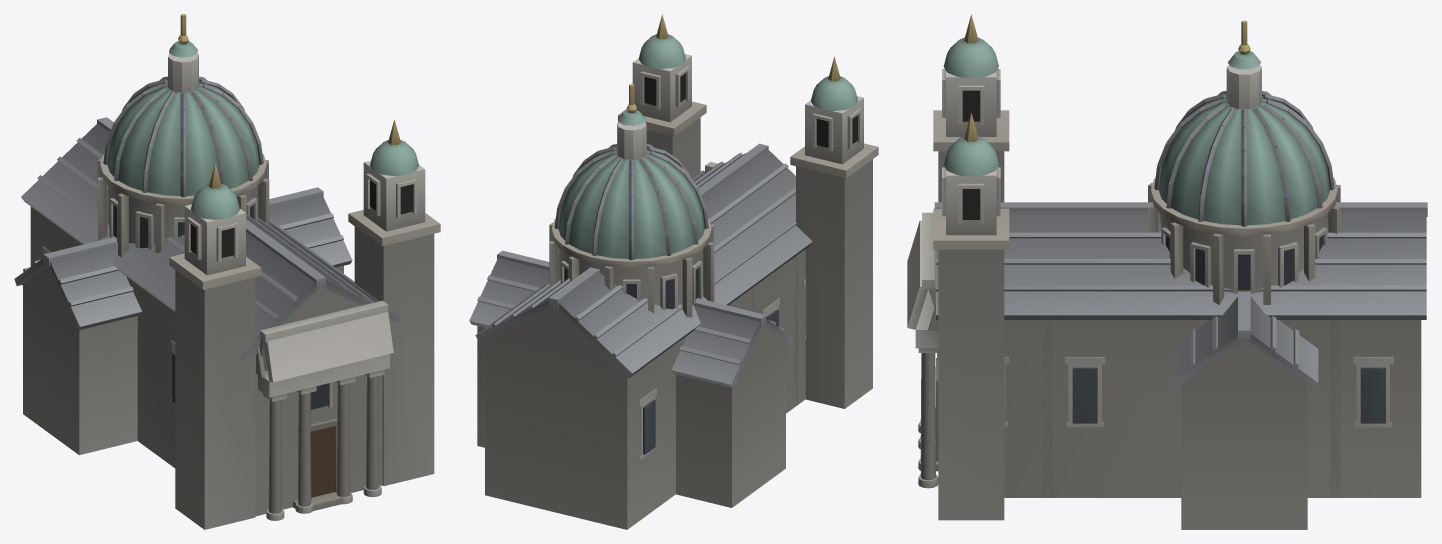
Rendered from landmark_early.glb.
3 views of the same model, side by side, from view 1: azimuth 30°, elevation 25°; view 2: azimuth 150°, elevation 25°; view 3: azimuth 270°, elevation 25° (orthographic). The views are drawn at different scales.
Parts seen in each view (by area): view 1: Body_Detail; view 2: Body_Detail; view 3: Body_Detail.
Boxes of the visible parts, x1,y1,x2,y2 form: Body_Detail: (14, 14, 440, 529); Body_Detail: (469, 14, 878, 529); Body_Detail: (907, 14, 1427, 529).
Bounding box in the file's own units: 1.41 × 1.91 × 2.06.
